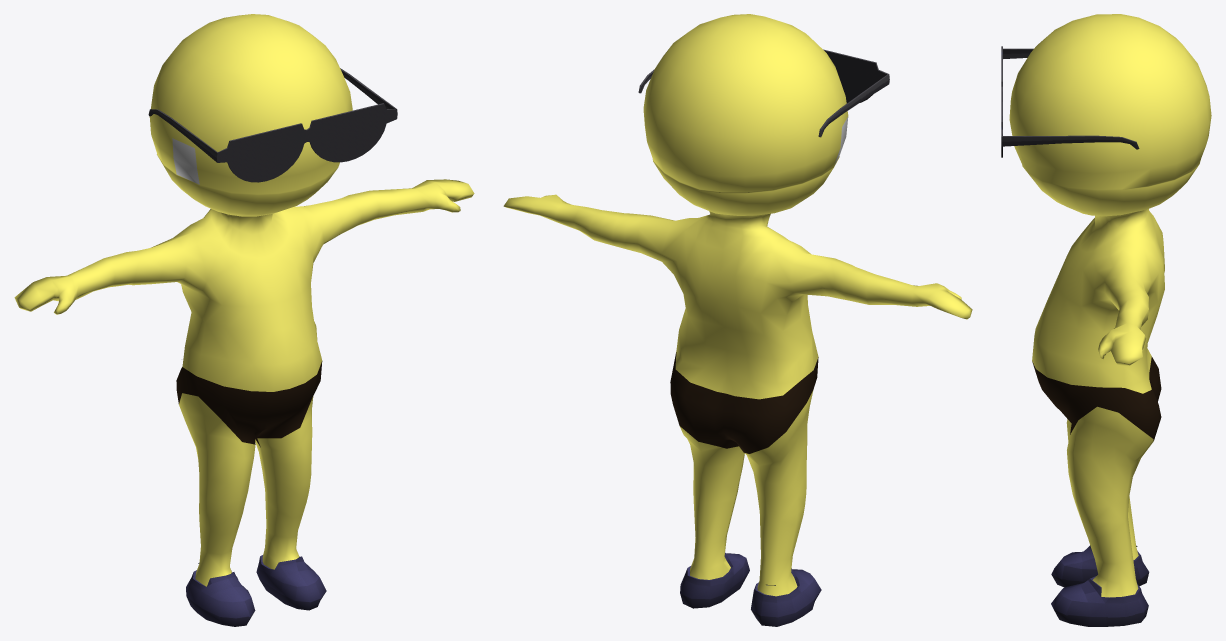
The model's file is thang di bien.fbx.
3 renders of one model, left to right at view 1: azimuth 30°, elevation 25°; view 2: azimuth 150°, elevation 25°; view 3: azimuth 270°, elevation 25°, orthographic.
Visible parts, largest first — view 1: police.001; view 2: police.001; view 3: police.001.
Part boxes in pixels (x1=…): police.001: x1=14, y1=14, x2=474, y2=626; police.001: x1=503, y1=14, x2=972, y2=626; police.001: x1=1001, y1=14, x2=1211, y2=626.
Size of the model in its own units: 154 by 185 by 61.26.
